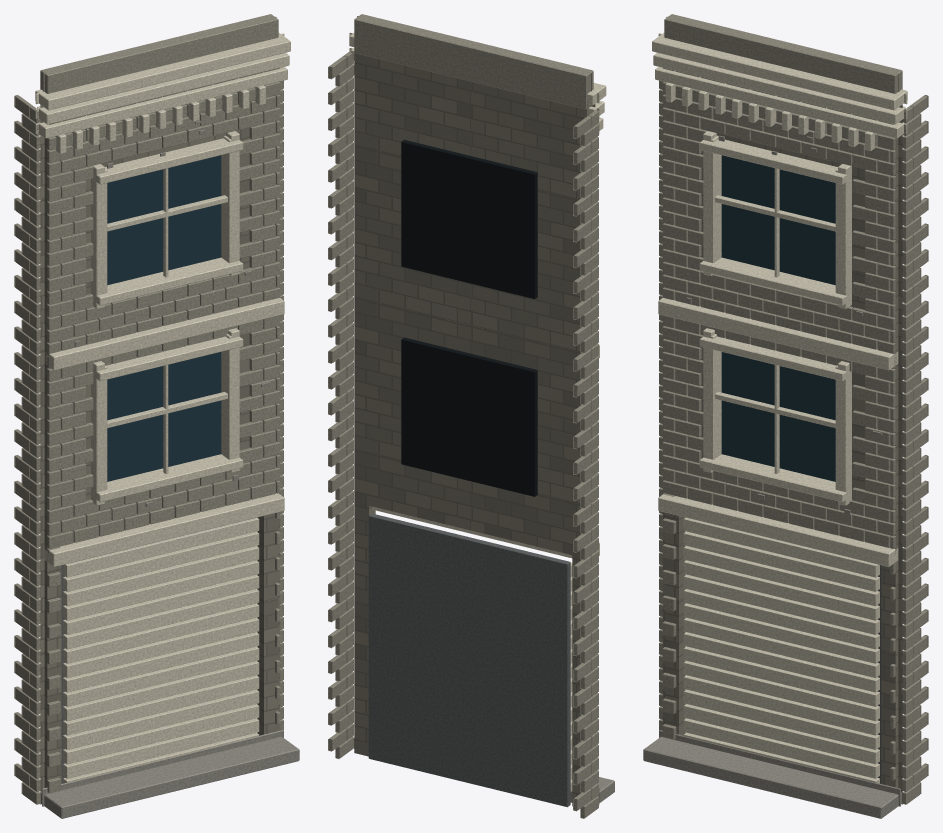
File: VICT32_lod0.glb
3 views of the same model, side by side, from view 1: azimuth 30°, elevation 25°; view 2: azimuth 150°, elevation 25°; view 3: azimuth 330°, elevation 25° (orthographic).
Parts seen in each view (by area): view 1: VICT32_FRONT_LOD0; view 2: VICT32_FRONT_LOD0; view 3: VICT32_FRONT_LOD0.
Part boxes in pixels (box(x1,y1,x2,y2)): VICT32_FRONT_LOD0: box(14, 14, 299, 818); VICT32_FRONT_LOD0: box(328, 14, 614, 818); VICT32_FRONT_LOD0: box(643, 14, 928, 818).
Size of the model in its own units: 3.44 by 9.66 by 1.02.
Materials: 9 (7 with a texture image).
